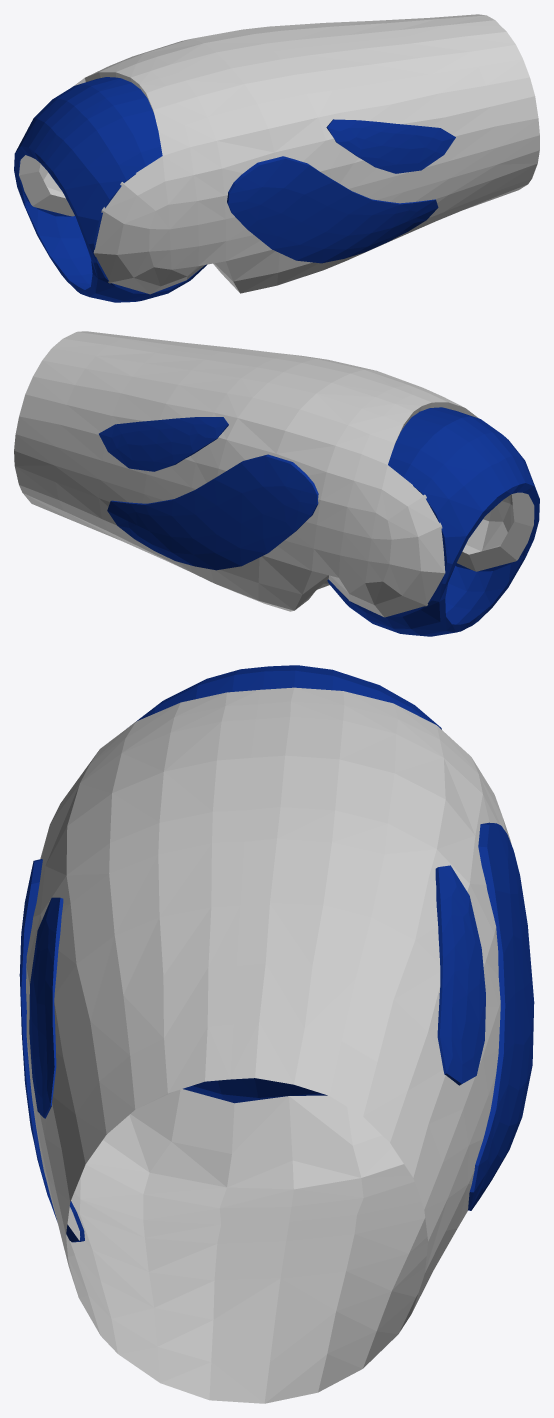
Rendered from LElbowYaw.obj.
3 views of the same model, one above another, from view 1: azimuth 30°, elevation 25°; view 2: azimuth 150°, elevation 25°; view 3: azimuth 270°, elevation 25° (orthographic). The views are drawn at different scales.
Parts seen in each view (by area): view 1: LElbowYaw; view 2: LElbowYaw; view 3: LElbowYaw.
Boxes of the visible parts, x1,y1,x2,y2 form: LElbowYaw: (14,14,539,302); LElbowYaw: (14,331,539,636); LElbowYaw: (19,665,534,1403).
Size of the model in its own units: 0.2117 by 0.0965 by 0.1038.
